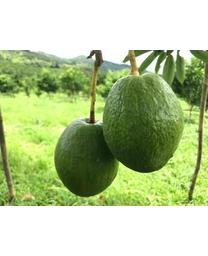avocado: (103, 70, 185, 174), (55, 118, 119, 197)
